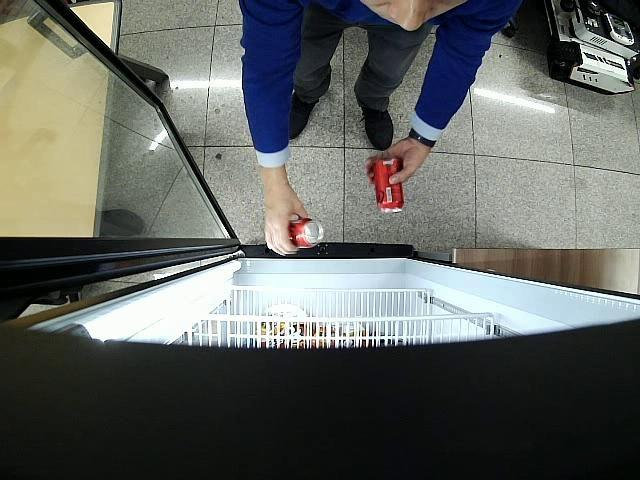11_cocaColaZero: (374, 158, 404, 213), (289, 219, 324, 249)
